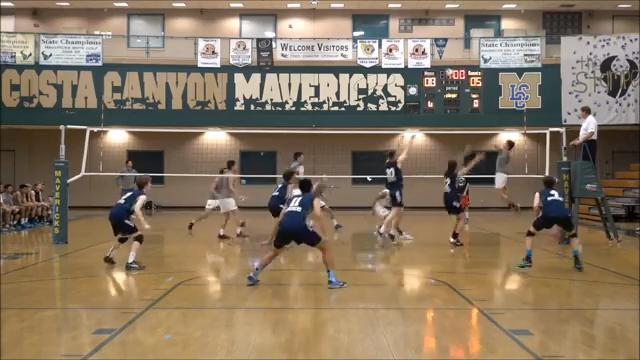Attack: (485, 135, 526, 216)
Block: (438, 139, 487, 243), (374, 128, 409, 249)
Player: (247, 178, 345, 288), (519, 176, 582, 270), (104, 176, 150, 269), (217, 160, 246, 239), (188, 177, 219, 230), (313, 177, 342, 230), (267, 169, 295, 219), (372, 189, 389, 220), (289, 152, 304, 178)
ball: (446, 68, 453, 75)
